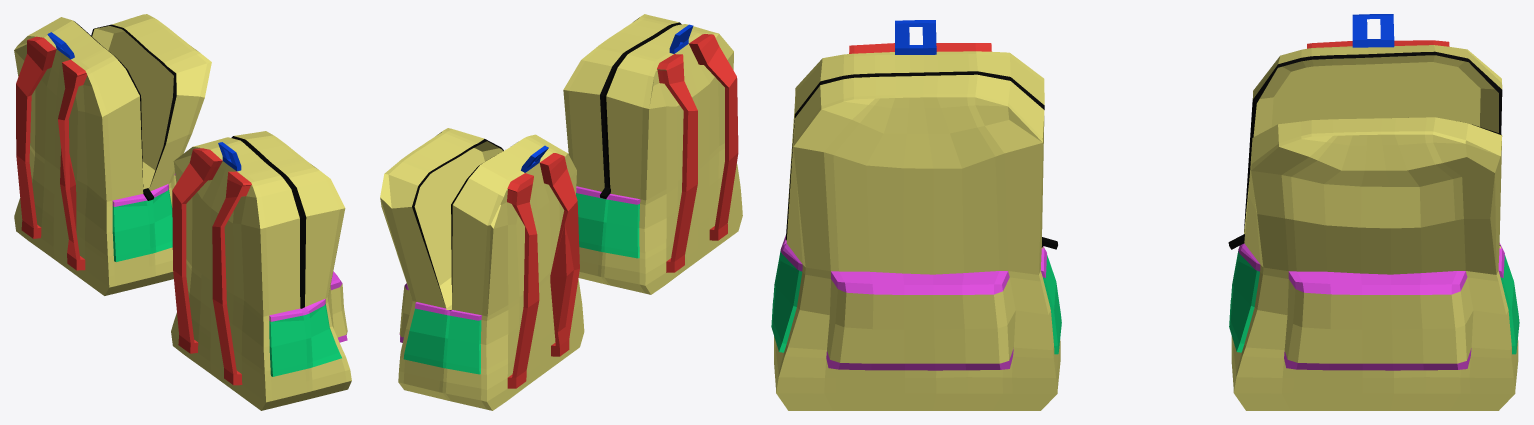
Rendered from mochilaaaa.fbx.
The picture shows the model from 3 angles, left to right: view 1: azimuth 30°, elevation 25°; view 2: azimuth 150°, elevation 25°; view 3: azimuth 270°, elevation 25°; orthographic projection. The views are drawn at different scales.
Parts seen in each view (by area): view 1: Cube.003, Cube; view 2: Cube.003, Cube; view 3: Cube.003, Cube.
Boxes of the visible parts, left/top/right/bottom form: Cube.003: left=14, top=14, right=211, bottom=295; Cube: left=171, top=131, right=351, bottom=410; Cube.003: left=380, top=128, right=584, bottom=410; Cube: left=563, top=14, right=742, bottom=294; Cube.003: left=1229, top=14, right=1519, bottom=410; Cube: left=771, top=20, right=1061, bottom=410.
Bounding box in the file's own units: 180 × 282 × 572.
